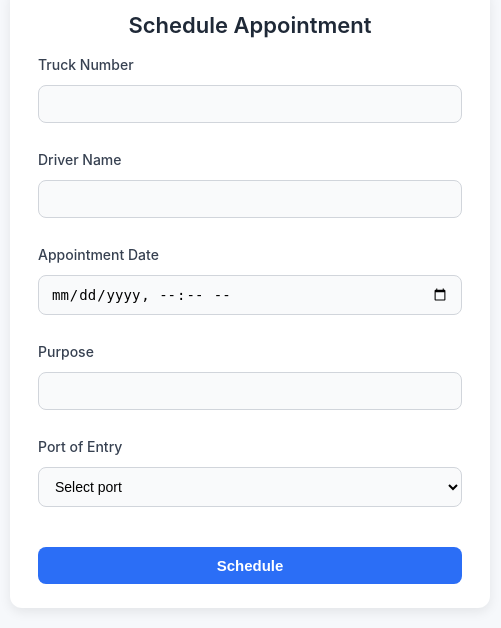
Scenario: AppointmentForm › shows loading state
In the field labelled "Truck Number": (250, 104) [38,85,462,123], type "TRK-1001"
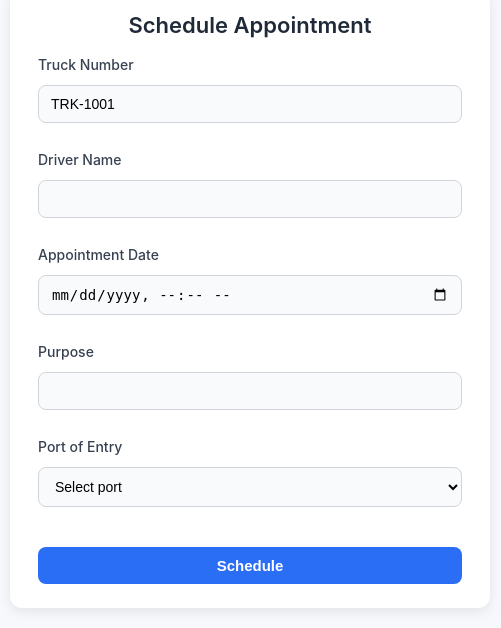
In the field labelled "Driver Name": (250, 199) [38,180,462,218], type "John Doe"
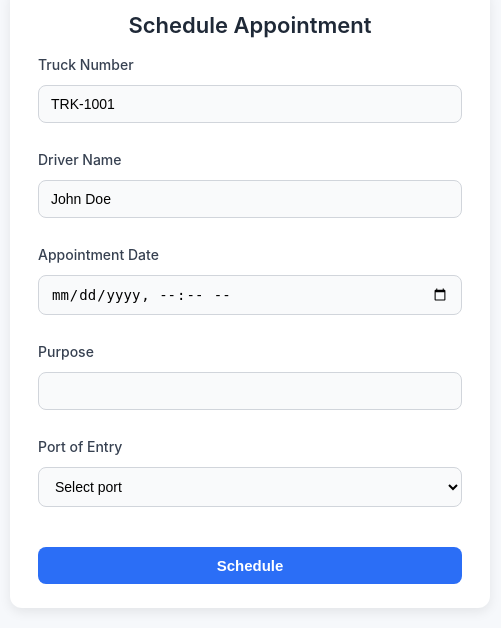
In the field labelled "Appointment Date": (250, 295) [38,275,462,315], type "2026-05-10T10:00"
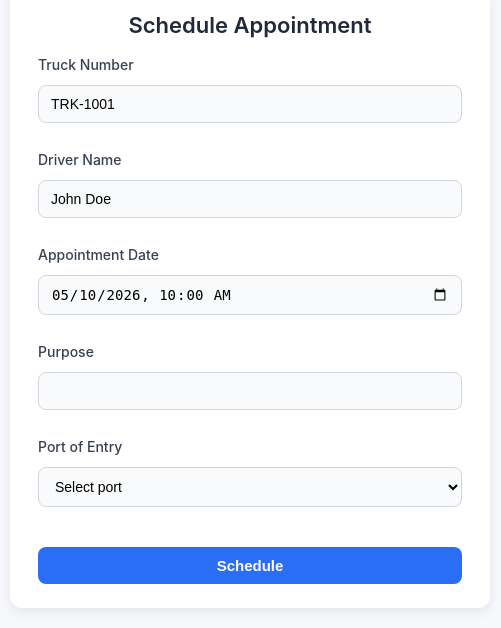
In the field labelled "Purpose": (250, 391) [38,372,462,410], type "Delivery"
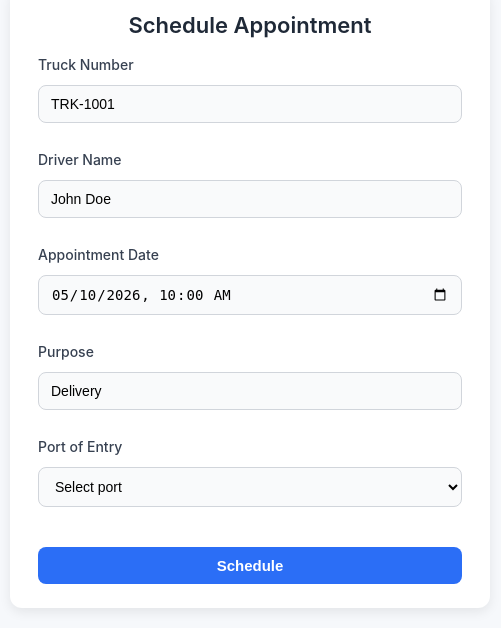
Select "Port A" in the dropdown labelled "Port of Entry": (250, 487) [38,467,462,507]
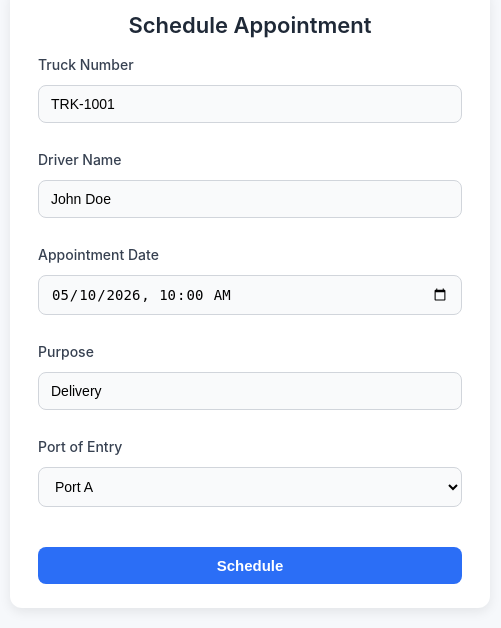
Click the button "Schedule": (250, 566) [38,547,462,584]
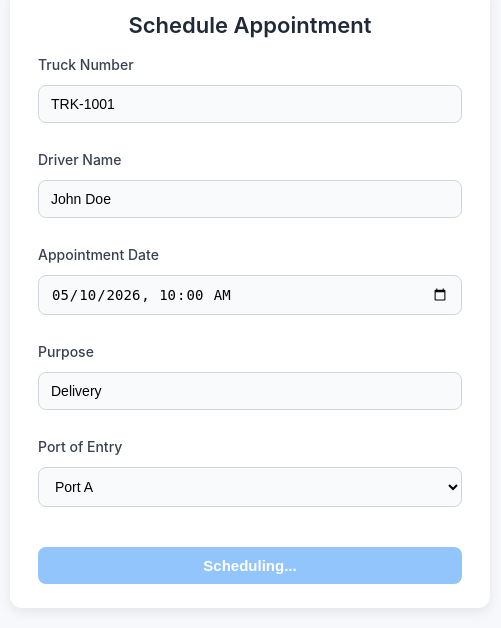
Expected: the button "Scheduling..." is disabled, [38,547,462,584]
